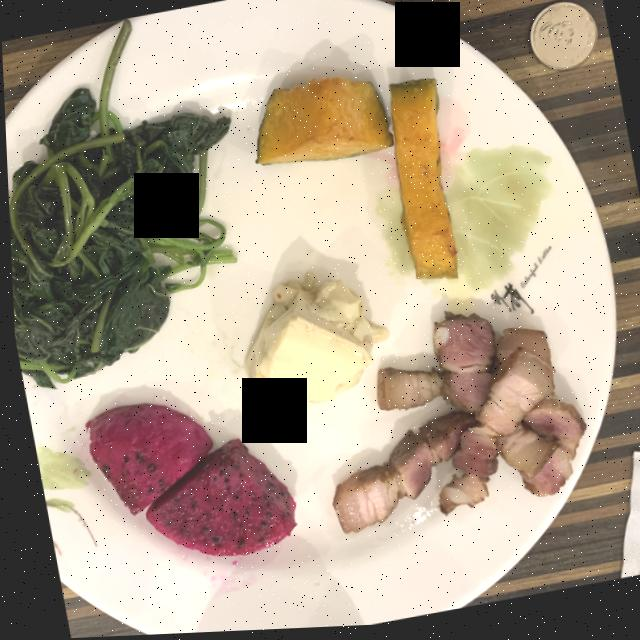coin: (528, 7, 596, 76)
grilled pork: (327, 316, 581, 536)
pumpkin: (254, 80, 455, 283)
sweet potato leaves: (7, 22, 233, 389)
